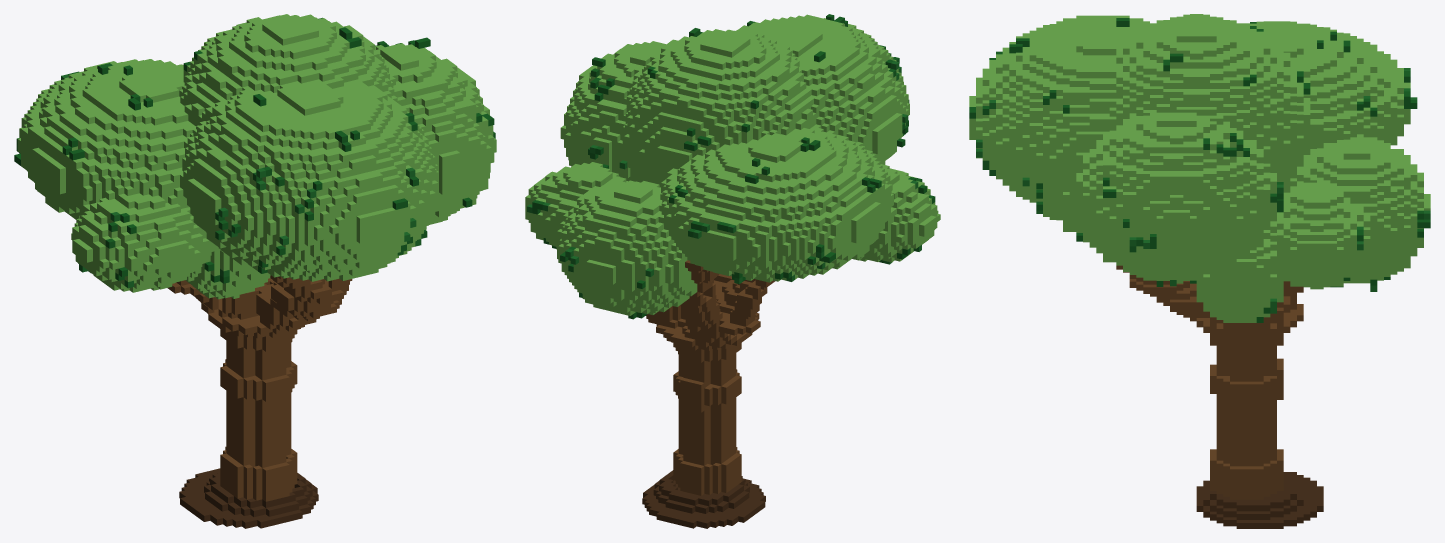
File: 1_0 caja.obj
The picture shows the model from 3 angles, left to right: view 1: azimuth 30°, elevation 25°; view 2: azimuth 150°, elevation 25°; view 3: azimuth 270°, elevation 25°; orthographic projection. The views are drawn at different scales.
Bounding box in the file's own units: 6.6 × 7.9 × 6.9.
Materials: 1 (1 with a texture image).
